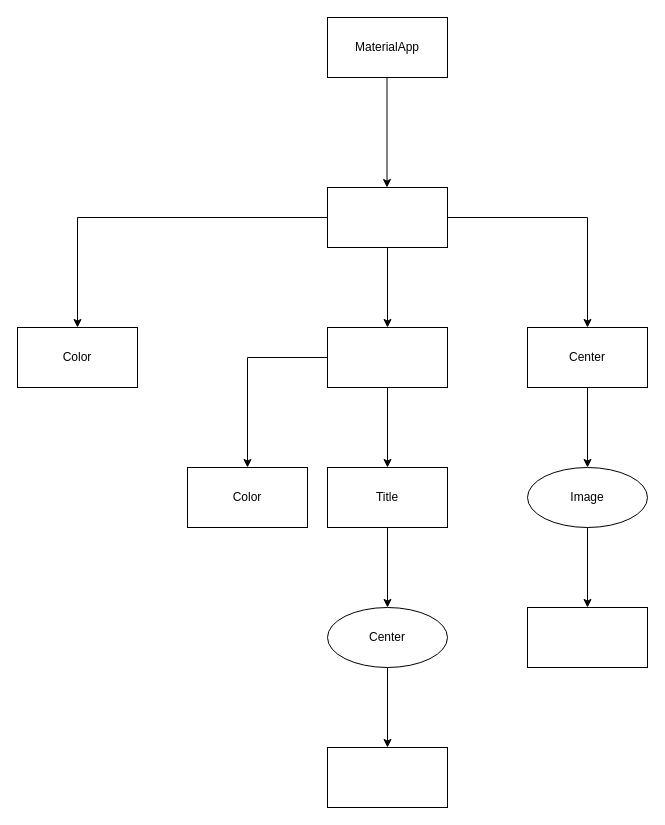
Some shapes in this 665 by 825 pixel diagram are drawn without their labels. Here are the shapes that lost their labels. From the top down, the centre of each, then its label:
At point (387, 217): "Scaffold".
At point (387, 357): "App Bar".
At point (587, 637): "NetworkImage".
At point (387, 777): "Text".
